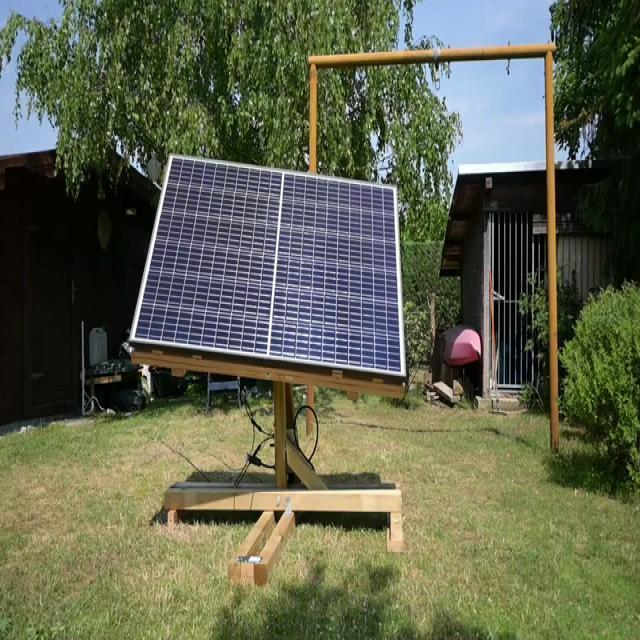Normal Solar Panel: (130, 156, 406, 380)
